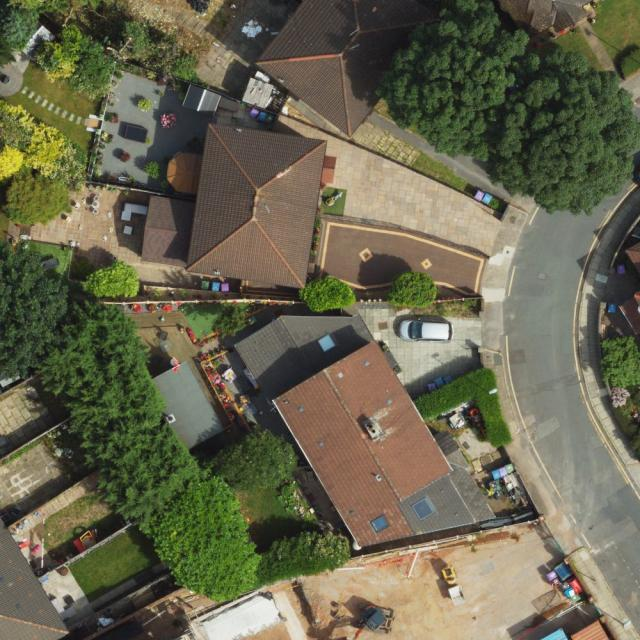roof: (237, 313, 499, 546), (141, 121, 327, 288), (257, 0, 437, 137), (1, 518, 69, 640), (502, 0, 591, 44)
skylight: (409, 492, 441, 525), (311, 329, 340, 357), (366, 511, 394, 536)
